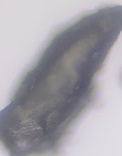microplastic: (1, 3, 122, 156)
